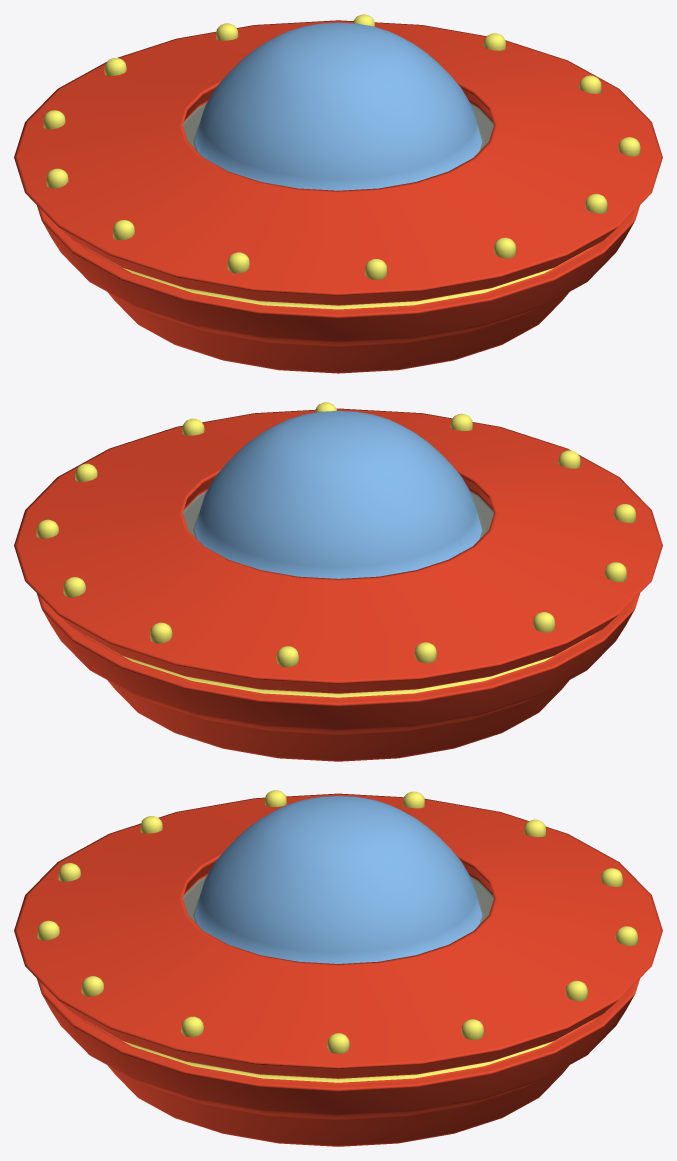
File: spaceship_01.glb
3 renders of one model, top to bottom at view 1: azimuth 30°, elevation 25°; view 2: azimuth 150°, elevation 25°; view 3: azimuth 270°, elevation 25°, orthographic.
Visible parts, largest first — view 1: Circle, Cylinder; view 2: Circle, Cylinder; view 3: Circle, Cylinder.
Boxes of the visible parts, x1,y1,x2,y2 form: Circle: (14,20,662,373); Cylinder: (43,14,640,280); Circle: (14,408,662,761); Cylinder: (36,402,635,667); Circle: (14,793,662,1146); Cylinder: (37,790,637,1053).
Size of the model in its own units: 2.11 by 0.9522 by 2.11.
